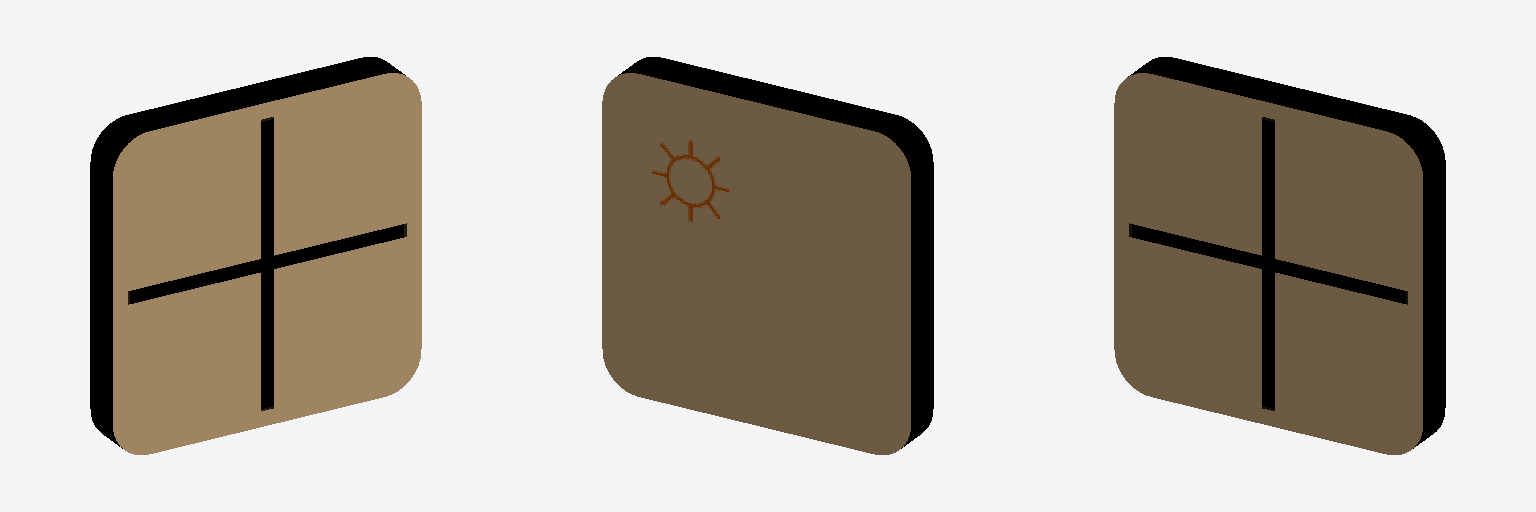
3 views of the same model, side by side, from view 1: azimuth 30°, elevation 25°; view 2: azimuth 150°, elevation 25°; view 3: azimuth 330°, elevation 25° (orthographic).
Size of the model in its own units: 2 by 2 by 0.25.
1 materials, 1 textured.